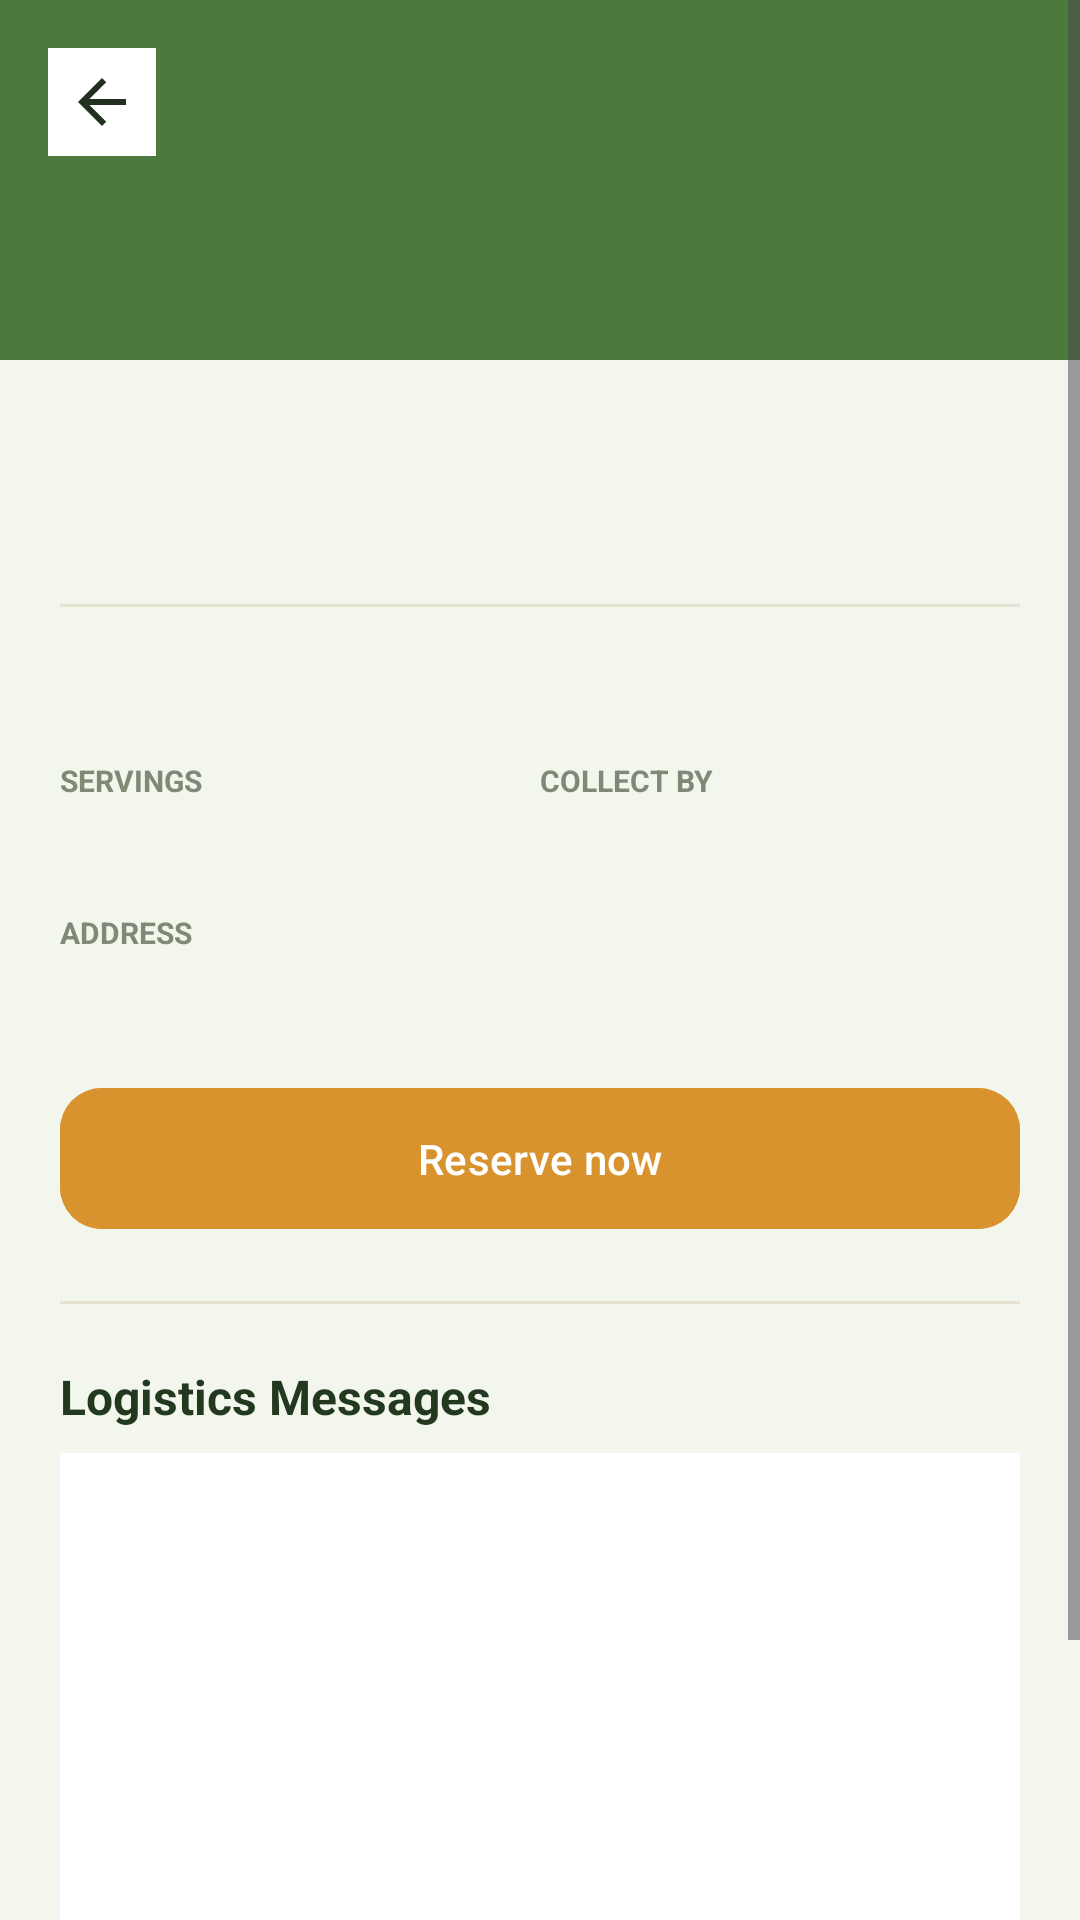

Screen size 1080×1920. Icon name, then its center in pixels as [x,y]:
back: [102,102]
